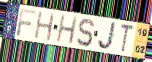F: (15, 8, 37, 38)
H: (55, 14, 79, 46), (33, 10, 56, 42)
J: (97, 21, 117, 51)
S: (76, 17, 96, 48)
T: (119, 22, 135, 55)
